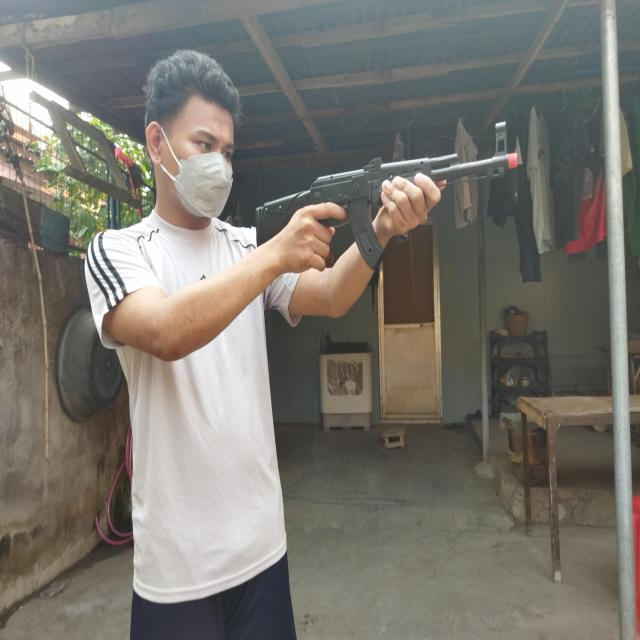rifle: (256, 122, 517, 273)
